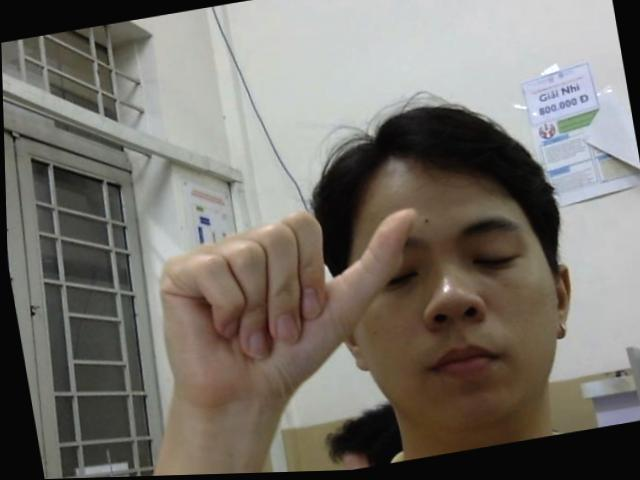A: (143, 188, 442, 418)
